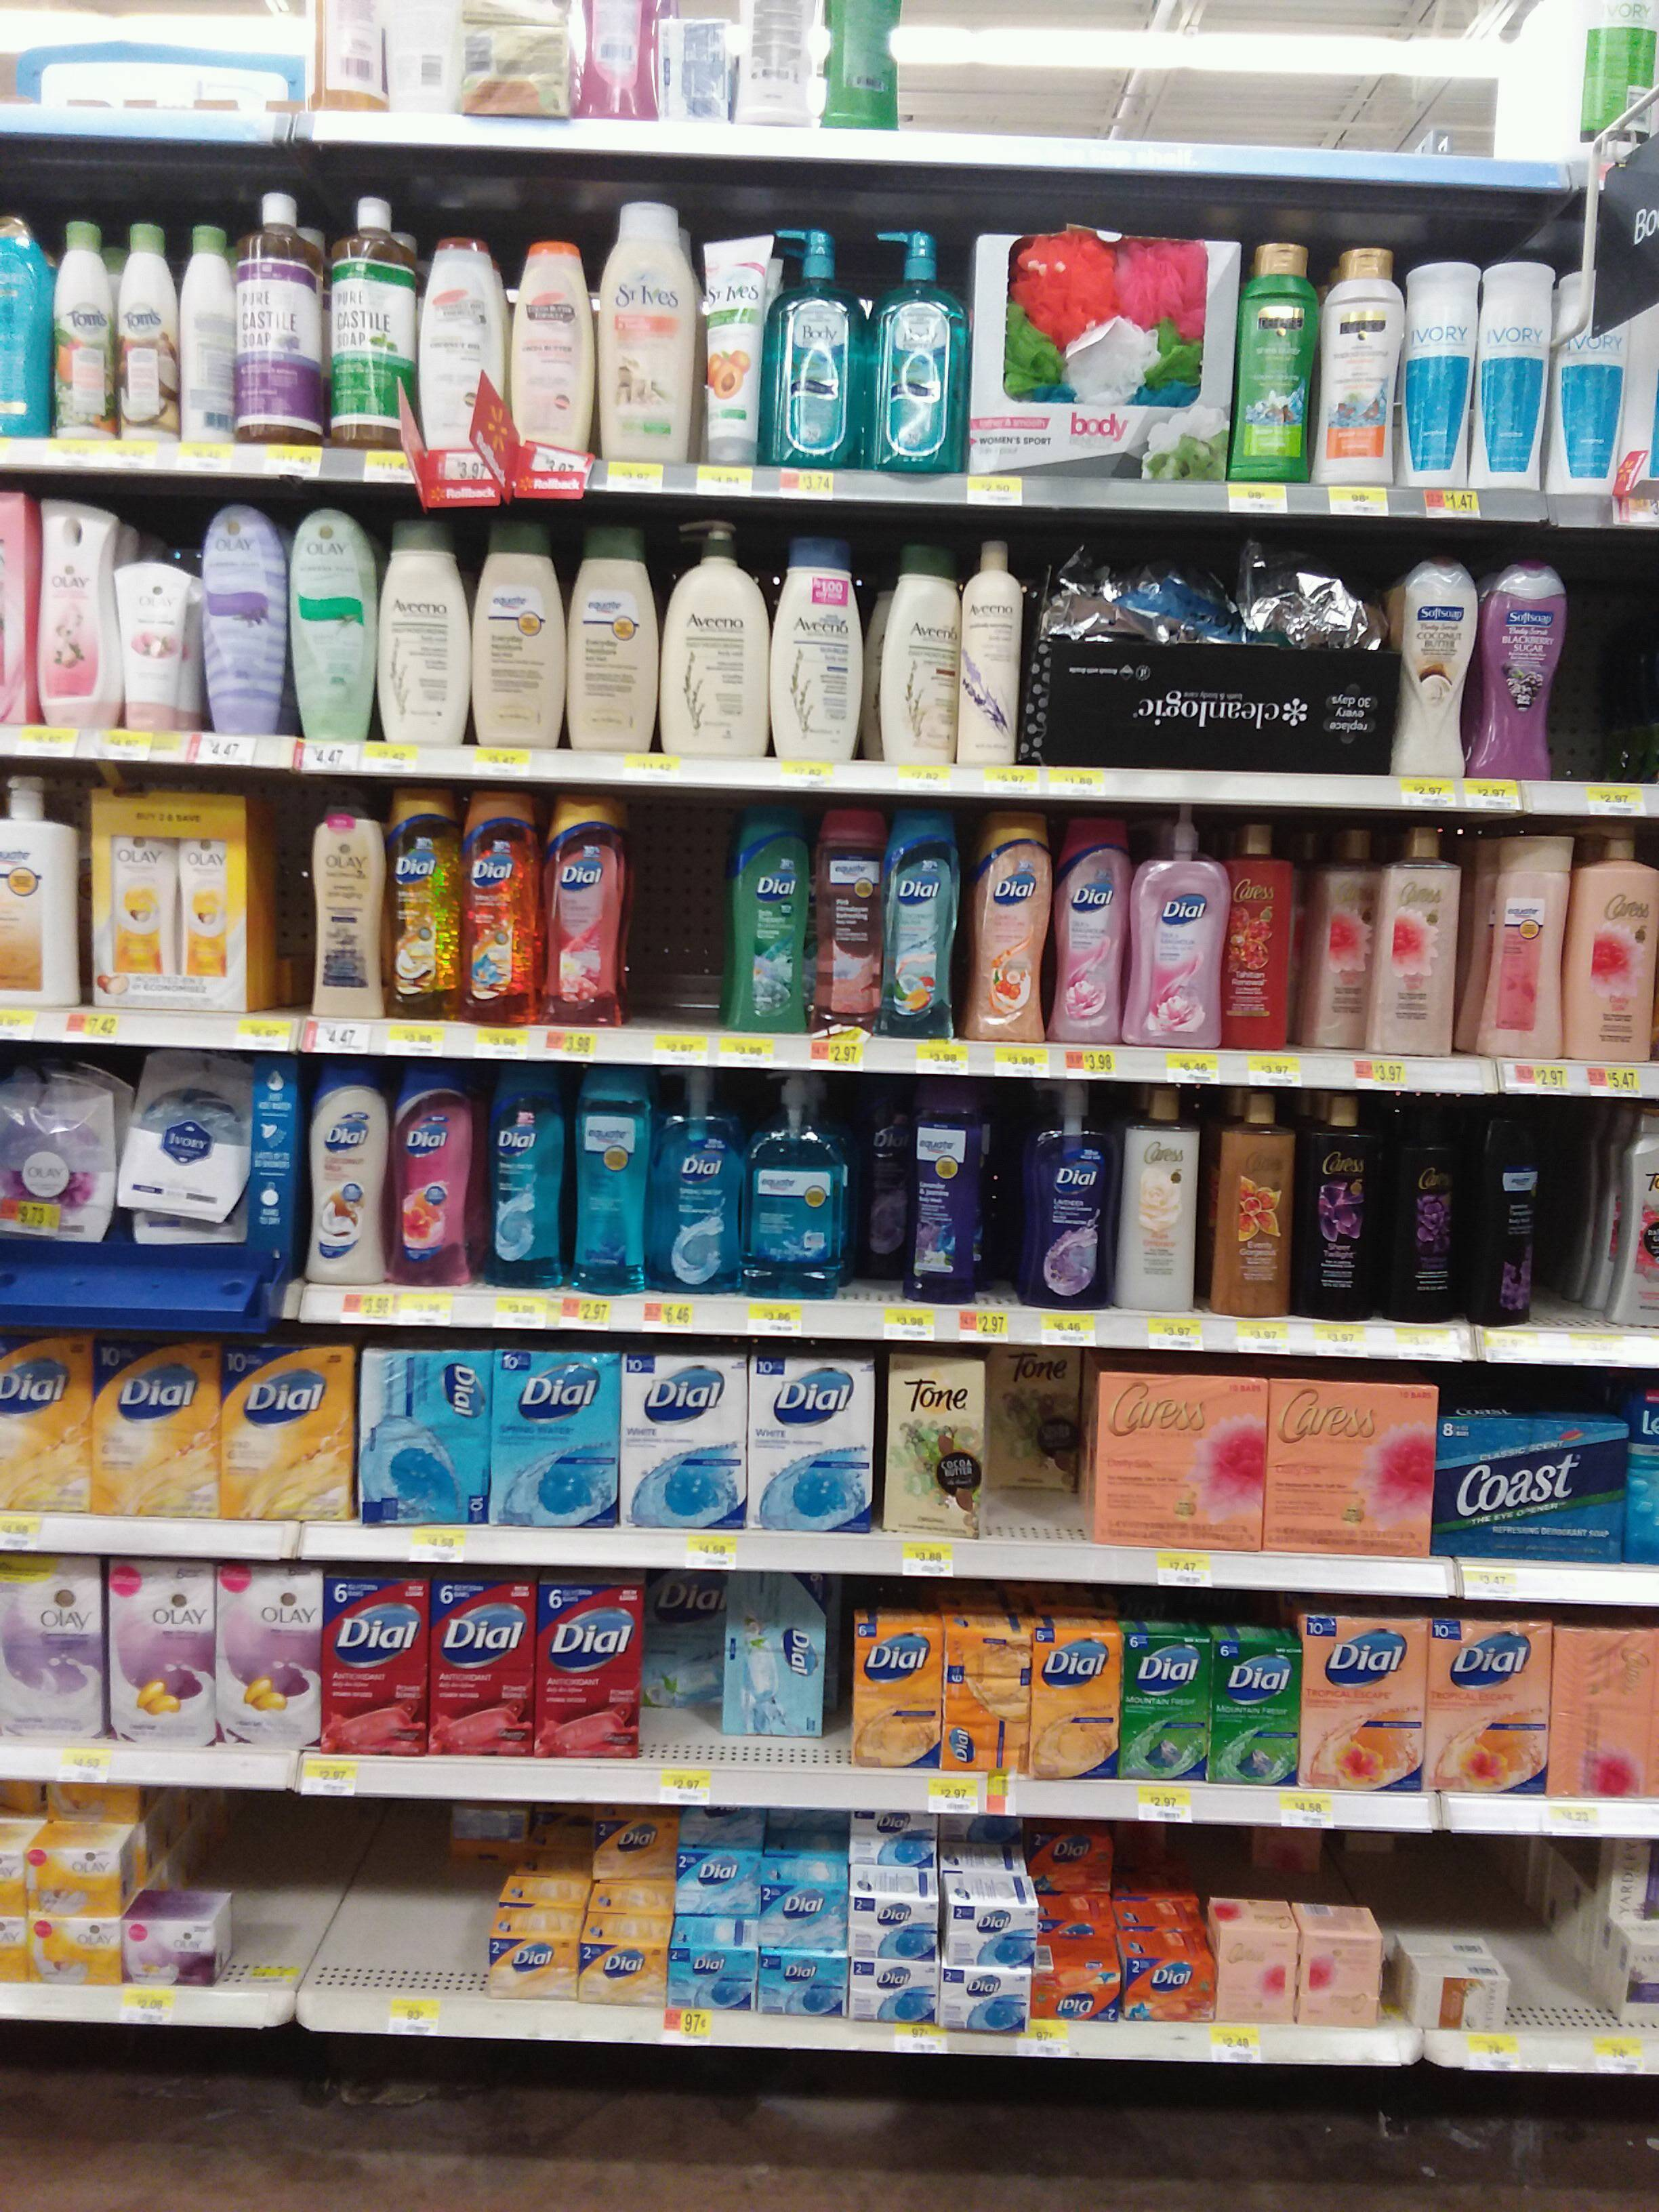Misplacement: (990, 1346, 1093, 1545)
Out-of-stock: (640, 791, 730, 1031)
